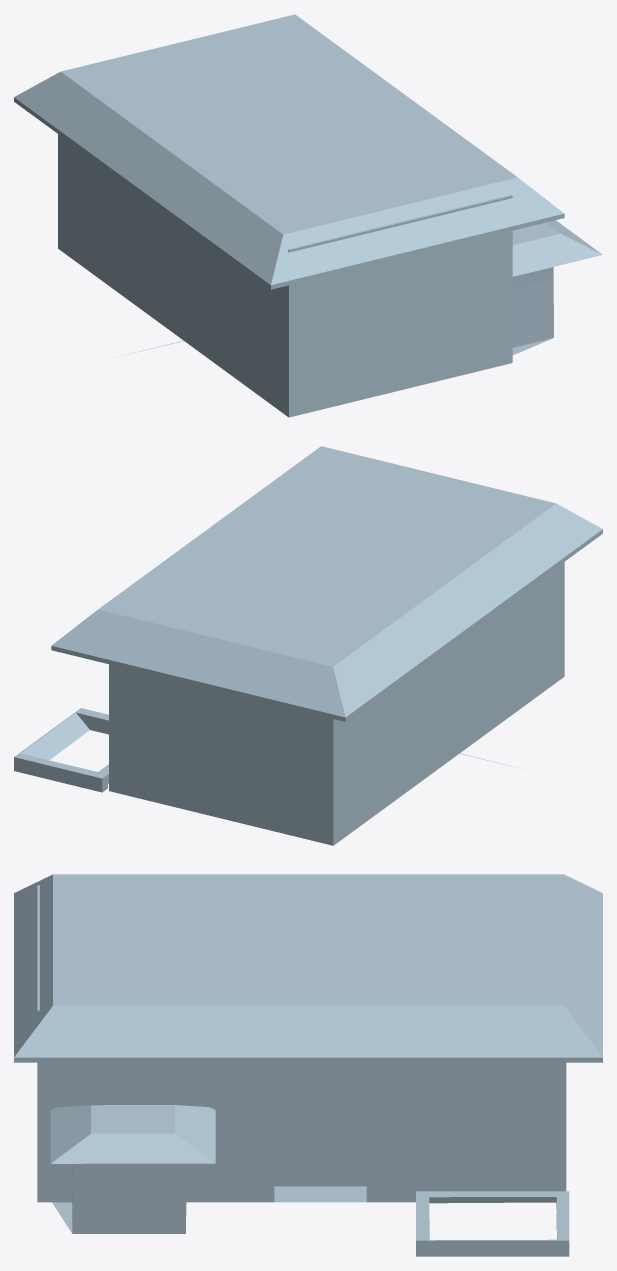
Rendered from Housing1Nav.glb.
3 renders of one model, top to bottom at view 1: azimuth 30°, elevation 25°; view 2: azimuth 150°, elevation 25°; view 3: azimuth 270°, elevation 25°, orthographic. The views are drawn at different scales.
Parts seen in each view (by area): view 1: Cube.001, Cube, Cube.003; view 2: Cube.001, Cube, Cube.002; view 3: Cube.001, Cube, Cube.003, Cube.002.
Boxes of the visible parts, box(x1,y1,x2,y2) form: Cube.001: box(14, 14, 564, 289); Cube: box(58, 134, 553, 417); Cube.003: box(512, 220, 602, 276); Cube.001: box(51, 446, 602, 721); Cube: box(109, 562, 564, 845); Cube.002: box(14, 708, 108, 792); Cube.001: box(14, 874, 602, 1062); Cube: box(37, 885, 566, 1233); Cube.003: box(50, 1105, 215, 1163); Cube.002: box(416, 1191, 569, 1256).
Bounding box in the file's own units: 5.07 × 2.14 × 5.57.
